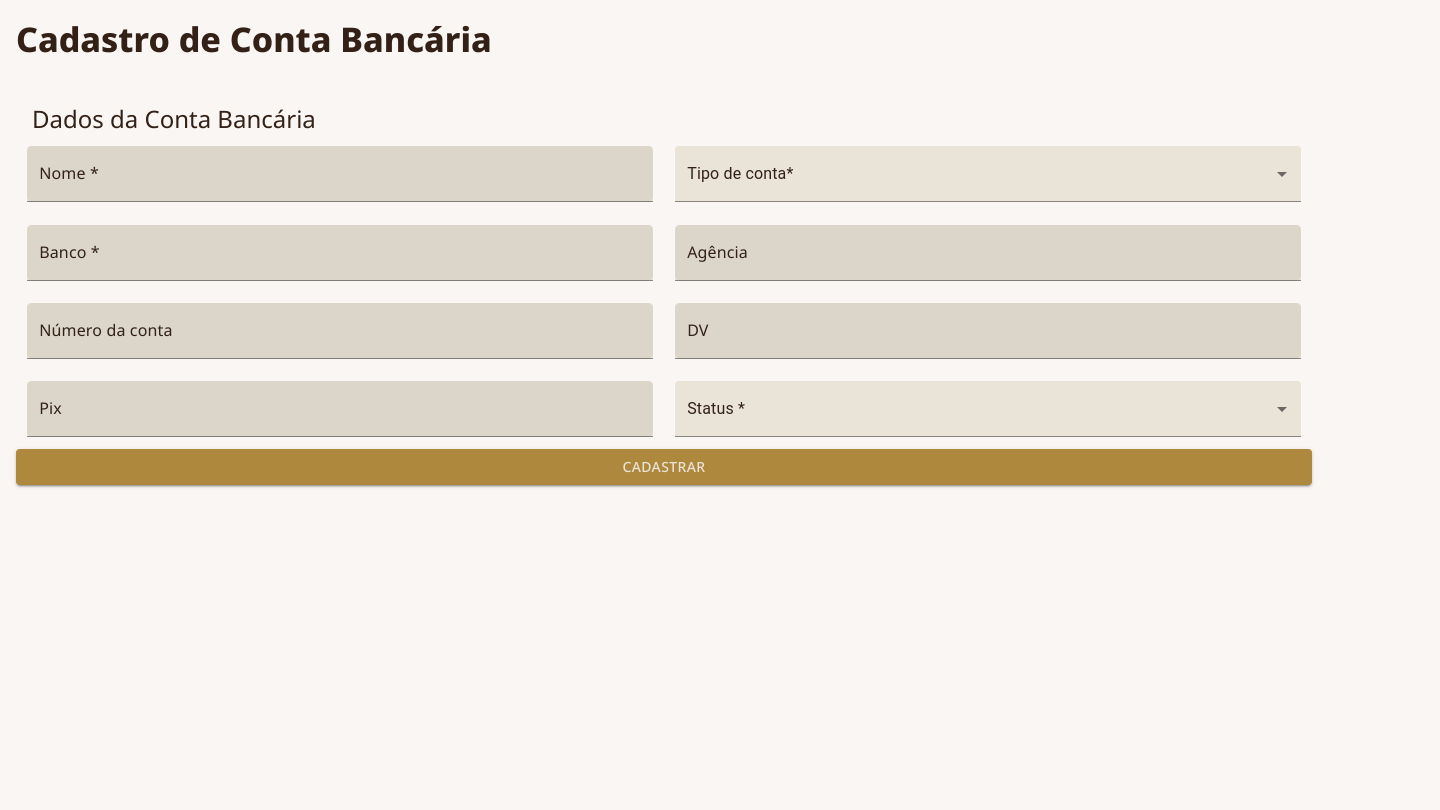
BankAccountCreate Component › shows error message when required fields are missing
The image size is (1440, 810).
Click the button "CADASTRAR". click: [664, 467]
box: [16, 448, 1312, 485]
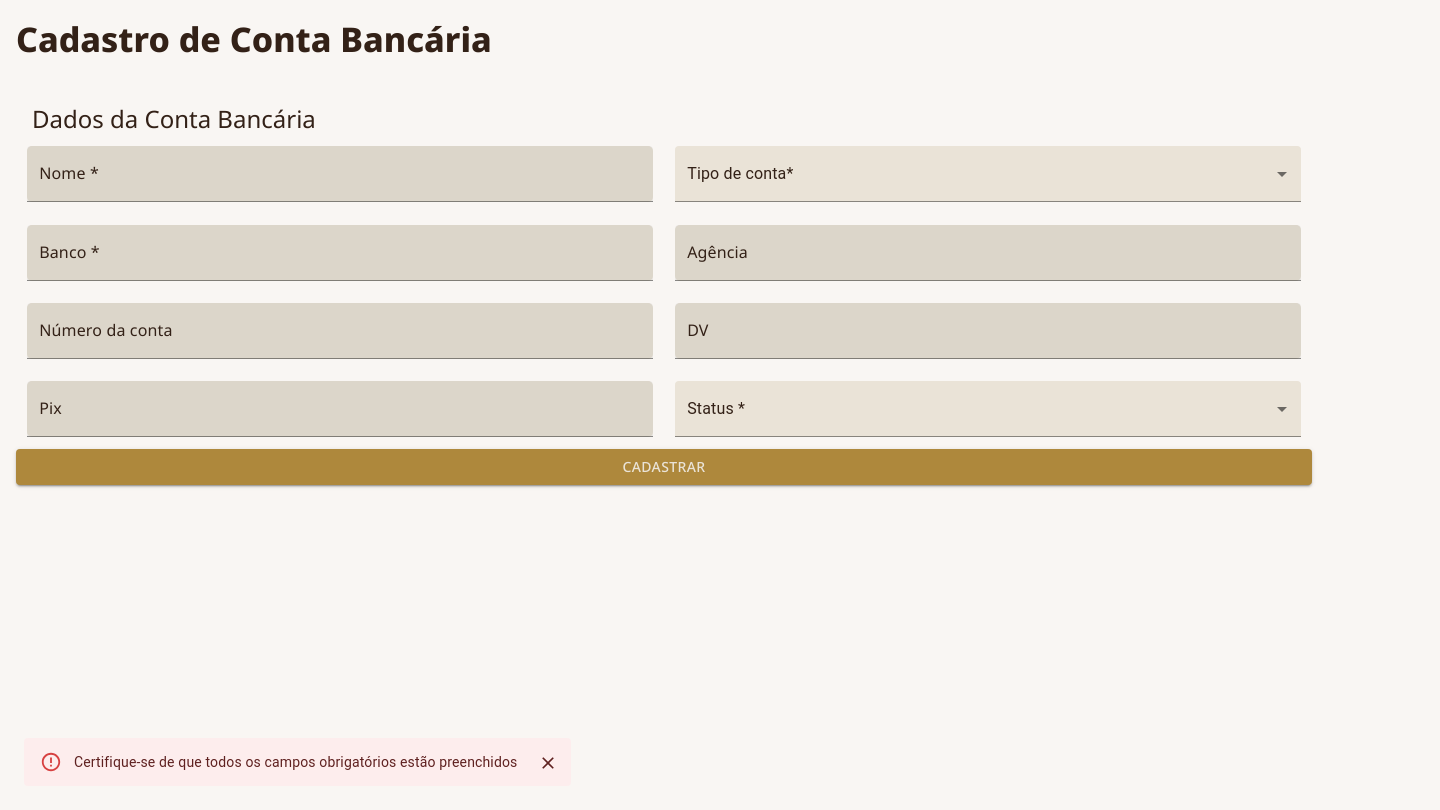
Now the text "Certifique-se de que todos os campos obrigatórios estão preenchidos" is shown, box [74, 754, 518, 770]
